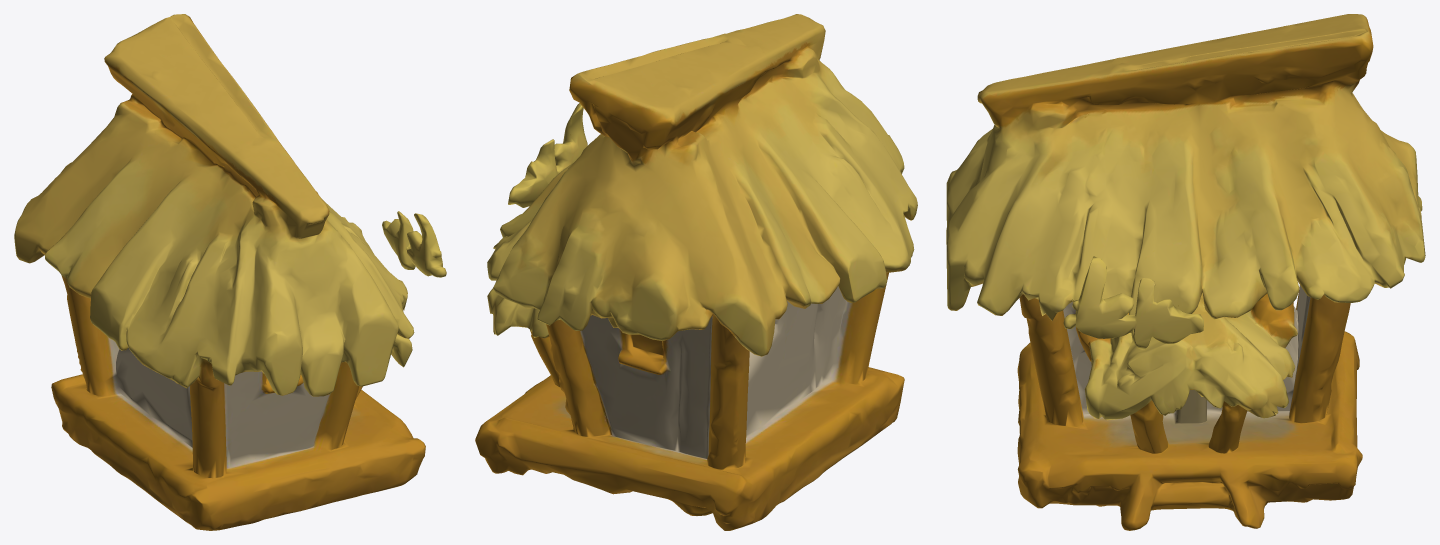
File: resHouse_04.fbx
The picture shows the model from 3 angles, left to right: view 1: azimuth 30°, elevation 25°; view 2: azimuth 150°, elevation 25°; view 3: azimuth 270°, elevation 25°; orthographic projection. The views are drawn at different scales.
Visible parts, largest first — view 1: tripo_node_ef5c19b9-a637-4a83-b422-417c39dd95bf; view 2: tripo_node_ef5c19b9-a637-4a83-b422-417c39dd95bf; view 3: tripo_node_ef5c19b9-a637-4a83-b422-417c39dd95bf.
Boxes of the visible parts, bbox=[...] form: tripo_node_ef5c19b9-a637-4a83-b422-417c39dd95bf: bbox=[14, 14, 446, 530]; tripo_node_ef5c19b9-a637-4a83-b422-417c39dd95bf: bbox=[475, 14, 917, 530]; tripo_node_ef5c19b9-a637-4a83-b422-417c39dd95bf: bbox=[946, 14, 1425, 530].
Bounding box in the file's own units: 80.12 × 97.35 × 98.06.
1 material, 1 textured.
